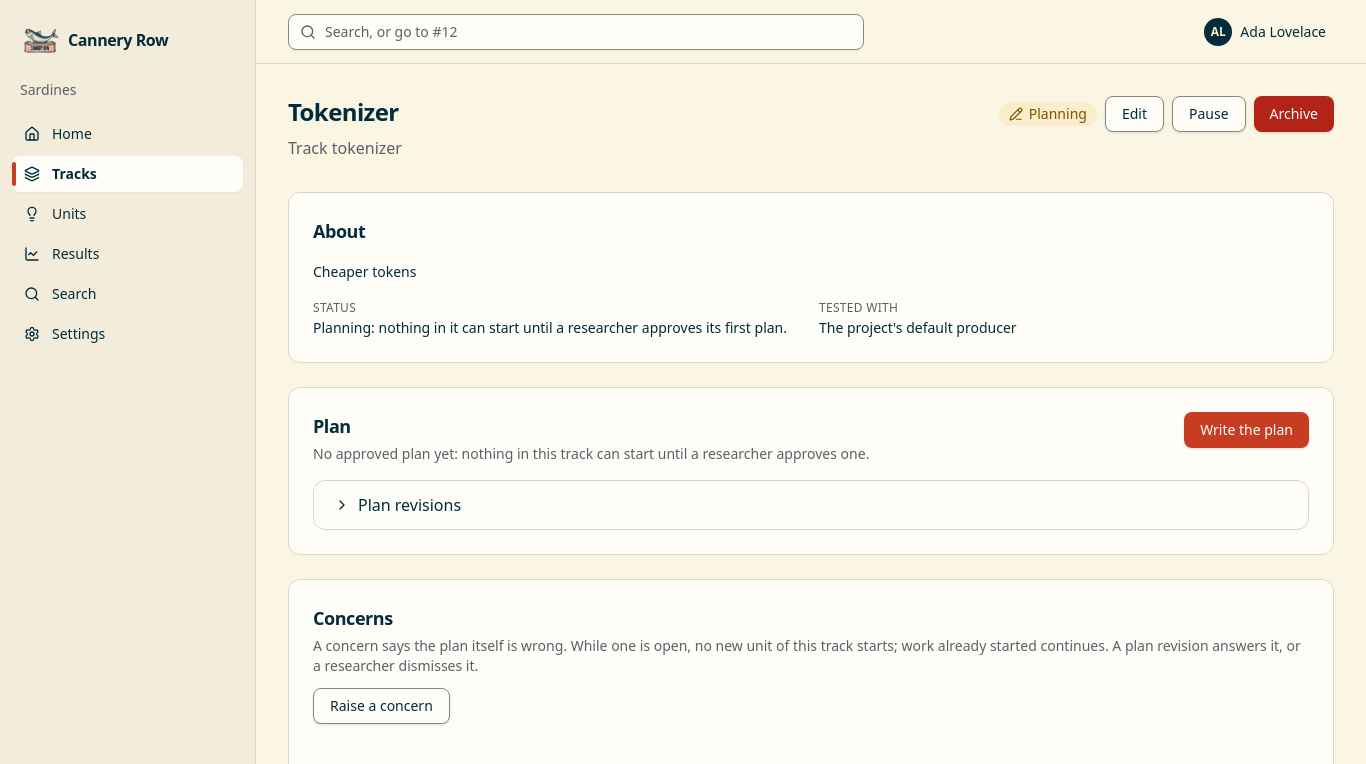
Test: a track's plan › lets a researcher start the first plan of a planning track
The width and height of the screenshot is (1366, 764).
Expected: the text "No approved plan yet" is shown, [313,444,869,463]
Click the button "Write the plan" at coordinates (1247, 430), box [1184,412,1309,448]
(page scrolled)
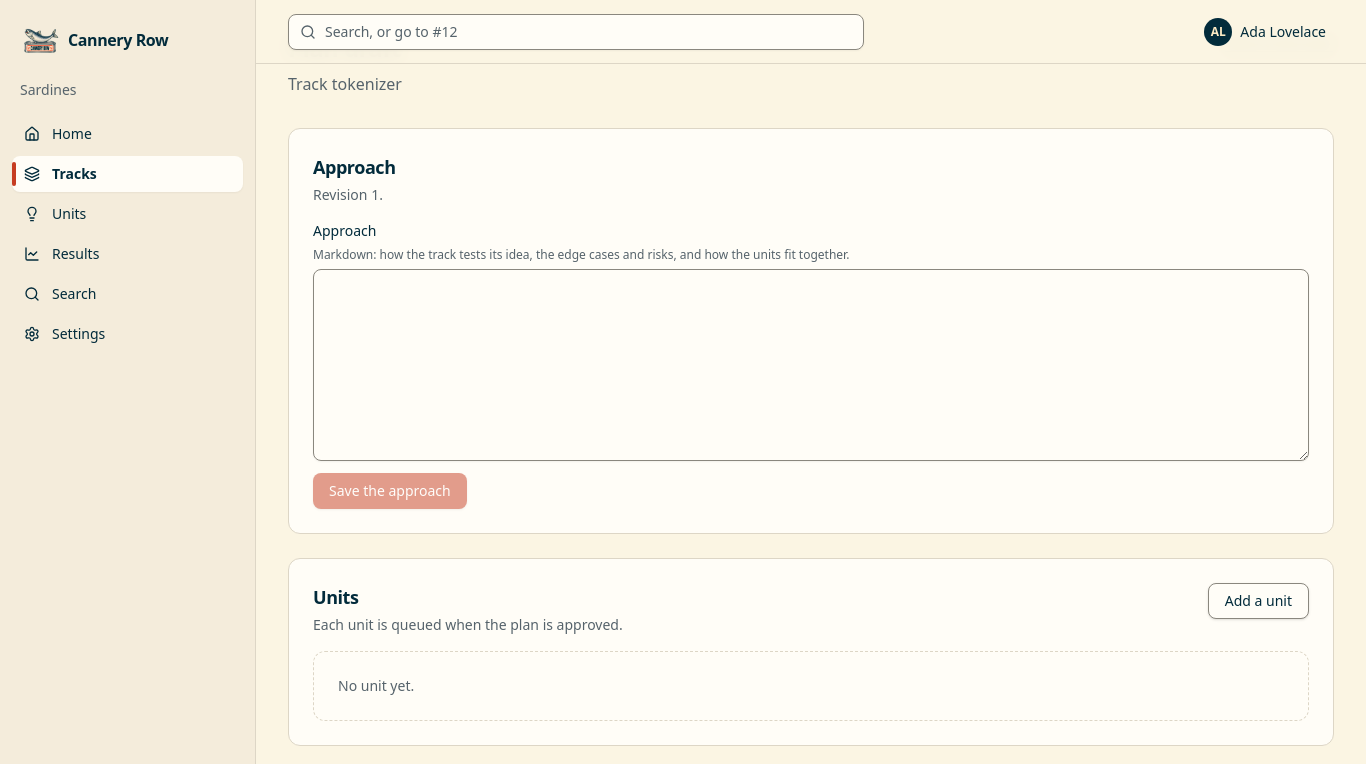
Expected: the element "Approach" is shown, [288,128,1334,534]
